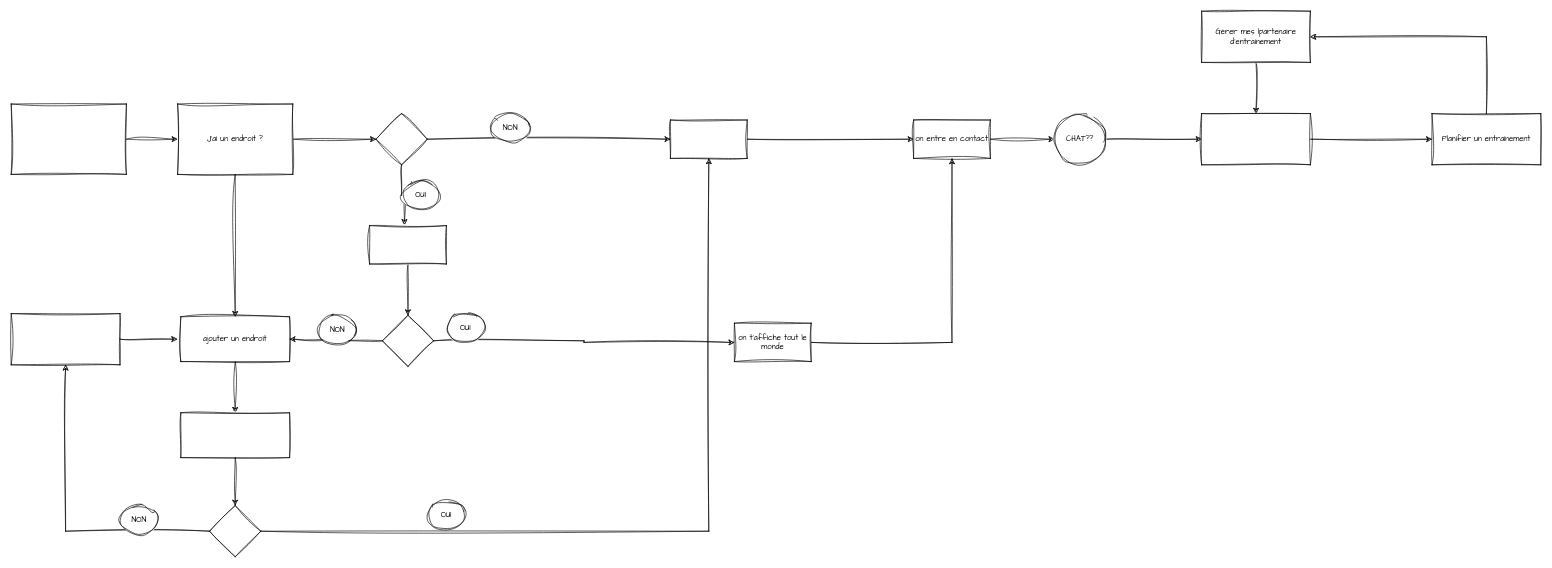
Image size: 1552x568. Some labels were removed from this diagram. The shapes that lost their labels are listed below. From the top down, each one's box as (x1, y1, x2, y2) in pixels, then its label:
(11, 103, 126, 174): Je cherche des gens pour s'entrainer
(670, 119, 747, 158): On t'affiche uniquement ceux qui ont des e,ndroit
(1201, 113, 1310, 165): Ajouter en partenaire d'entrainement
(369, 225, 446, 264): J'en ai enregistré ?
(11, 313, 120, 365): Gérer mes lieux d'entrainement
(180, 412, 290, 458): dans le cadre d'une recherche ?
